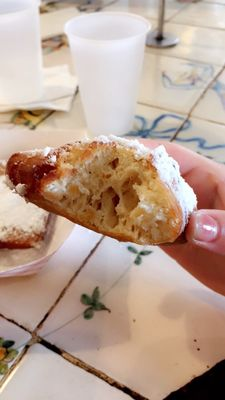pizza: (64, 12, 150, 138)
salad: (168, 65, 225, 142)
